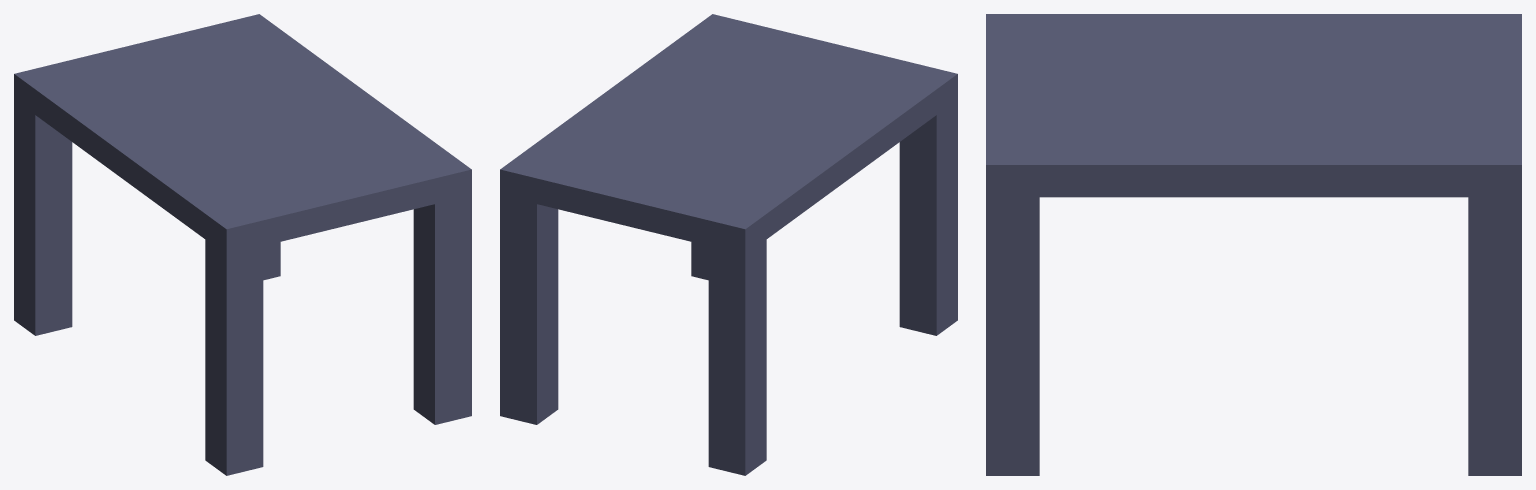
File: Tadle.fbx
3 renders of one model, left to right at view 1: azimuth 30°, elevation 25°; view 2: azimuth 150°, elevation 25°; view 3: azimuth 270°, elevation 25°, orthographic. The views are drawn at different scales.
Parts seen in each view (by area): view 1: table; view 2: table; view 3: table.
Boxes of the visible parts, x1=… form: table: x1=14, y1=14, x2=471, y2=475; table: x1=500, y1=14, x2=957, y2=475; table: x1=986, y1=14, x2=1521, y2=475.
Bounding box in the file's own units: 200 × 192 × 300.
